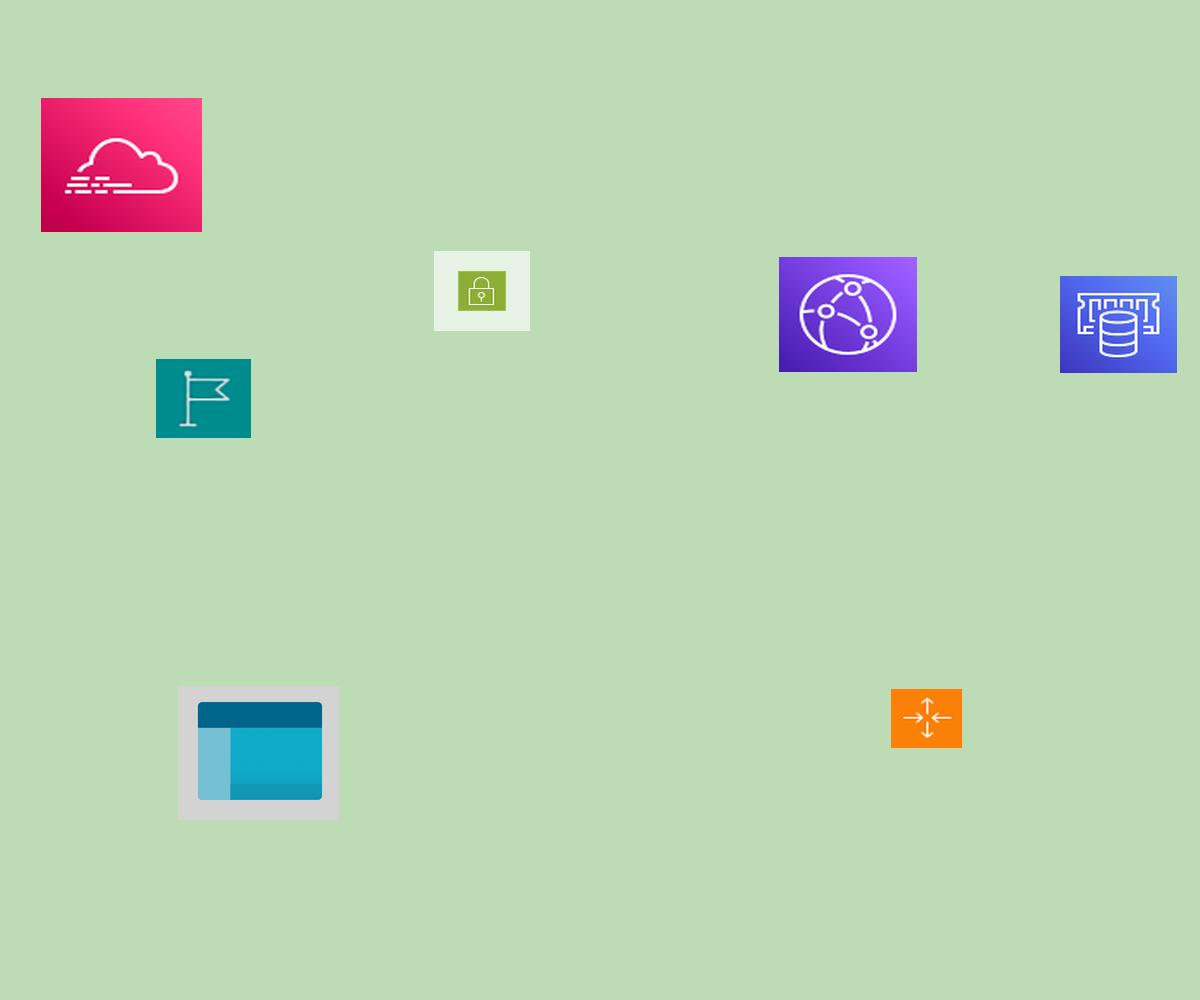AWS-CloudFront: (779, 257, 917, 372)
AWS-CloudTrail: (41, 98, 202, 232)
AWS-ElastiCache: (1060, 276, 1177, 373)
AWS-Public-subnet: (434, 251, 530, 331)
AWS-Region: (156, 359, 251, 438)
AWS-Scaling-group: (891, 689, 962, 748)
Azure_management-portal: (178, 686, 339, 820)
